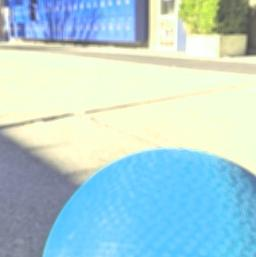algae: (31, 143, 256, 257)
